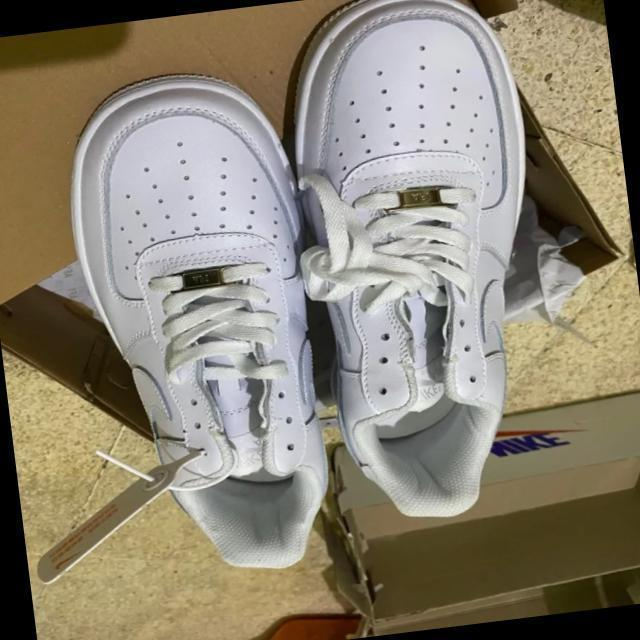nike fake air force: (266, 0, 573, 536), (51, 60, 341, 590)
